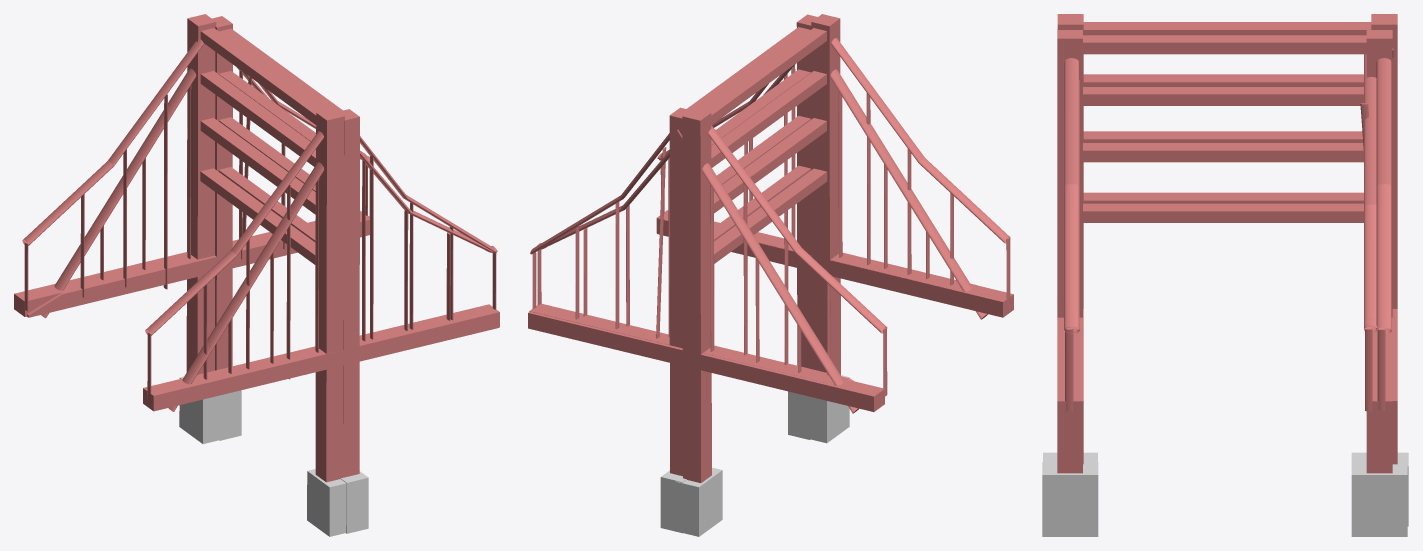
The model's file is road_bridge.glb.
The picture shows the model from 3 angles, left to right: view 1: azimuth 30°, elevation 25°; view 2: azimuth 150°, elevation 25°; view 3: azimuth 270°, elevation 25°; orthographic projection. The views are drawn at different scales.
Parts seen in each view (by area): view 1: Water, Ground; view 2: Water, Ground; view 3: Ground, Water.
Part boxes in pixels (x1=…): Water: x1=14, y1=14, x2=498, y2=536; Ground: x1=27, y1=16, x2=499, y2=533; Water: x1=528, y1=14, x2=1013, y2=536; Ground: x1=529, y1=14, x2=987, y2=533; Ground: x1=1042, y1=29, x2=1407, y2=536; Water: x1=1043, y1=14, x2=1408, y2=526.
Bounding box in the file's own units: 37.19 × 42.17 × 27.91.
